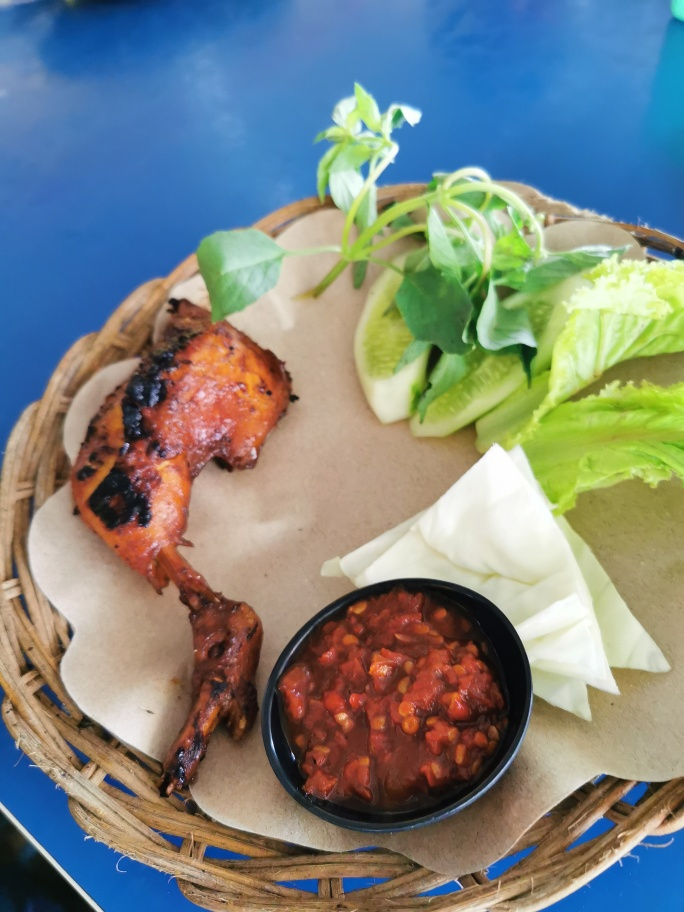ayam bakar: (63, 291, 295, 810)
